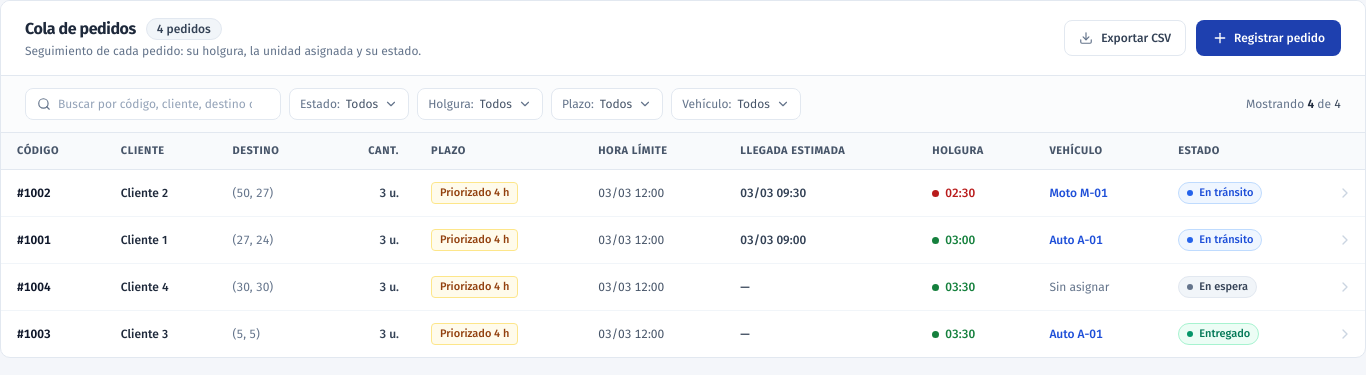
it: Rúbrica · panel · pedidos › C68 · se busca un pedido planificado en la cola de pedidos
This screenshot has width=1366, height=375.
Expected: the text "#1001" is shown, [1,216,105,264]
Type "#1002" into the field named "Buscar pedidos" at {"x": 153, "y": 104}, box [25,88,281,120]
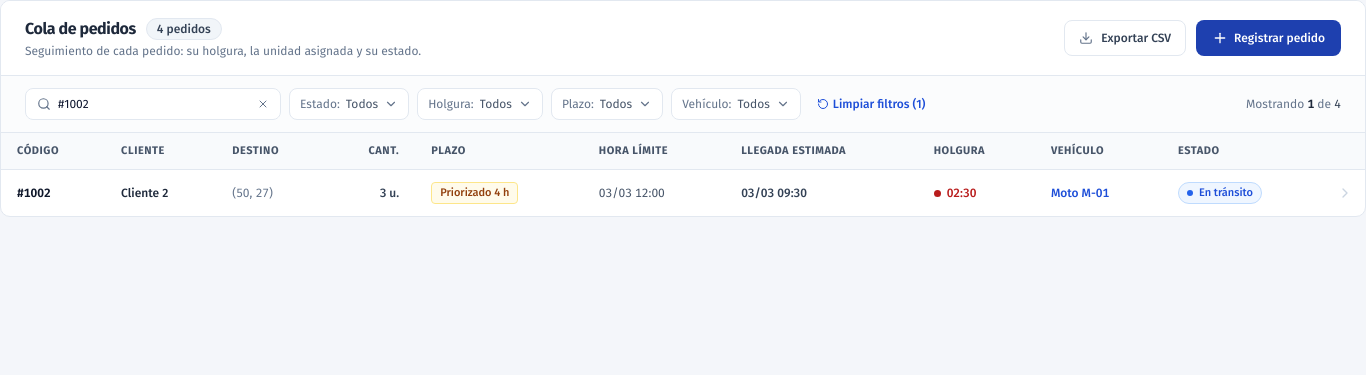
Expected: the text "#1002" is shown, [1,170,105,216]
Expected: the text "#1001" is gone
